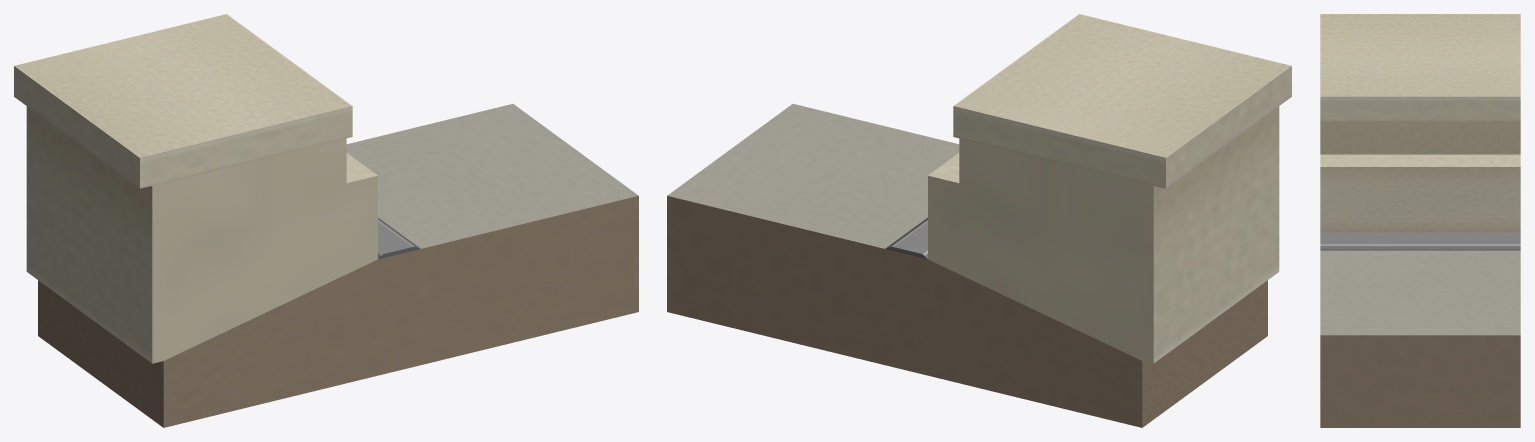
The model's file is set_roof_outside_b03.fbx.
The picture shows the model from 3 angles, left to right: view 1: azimuth 30°, elevation 25°; view 2: azimuth 150°, elevation 25°; view 3: azimuth 270°, elevation 25°; orthographic projection. The views are drawn at different scales.
Parts seen in each view (by area): view 1: set_roof_outside_b03; view 2: set_roof_outside_b03; view 3: set_roof_outside_b03.
Boxes of the visible parts, x1,y1,x2,y2 form: set_roof_outside_b03: [14, 14, 638, 427]; set_roof_outside_b03: [667, 14, 1291, 427]; set_roof_outside_b03: [1320, 14, 1520, 427].
Size of the model in its own units: 229 by 121 by 100.
